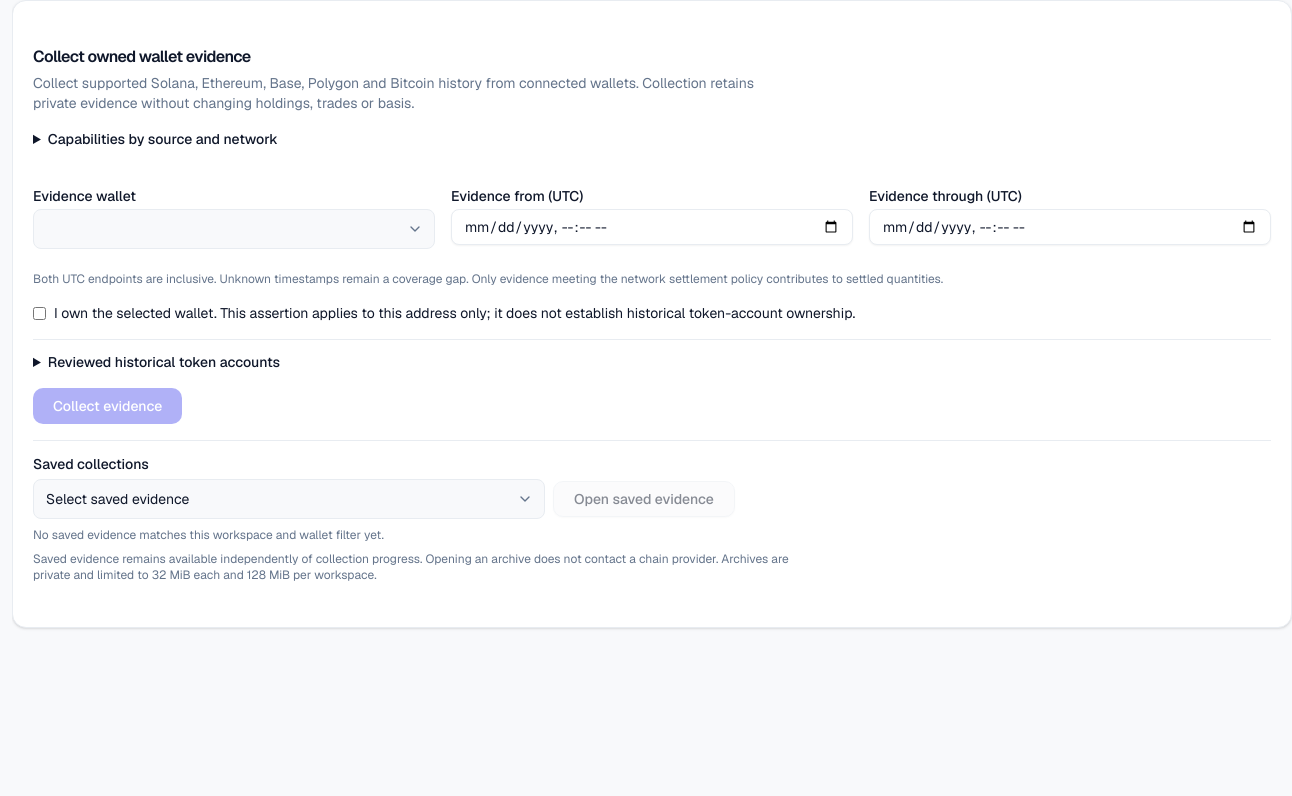
it: explains a busy workspace and retries only when requested, retaining saved evidence
This screenshot has width=1292, height=796.
expect the dropdown labelled "Evidence wallet" is shown: met, box x1=33 y1=209 x2=435 y2=249
Click the checkbox labelled "I own the selected wallet". click: click(40, 314)
box: x1=33 y1=307 x2=46 y2=320
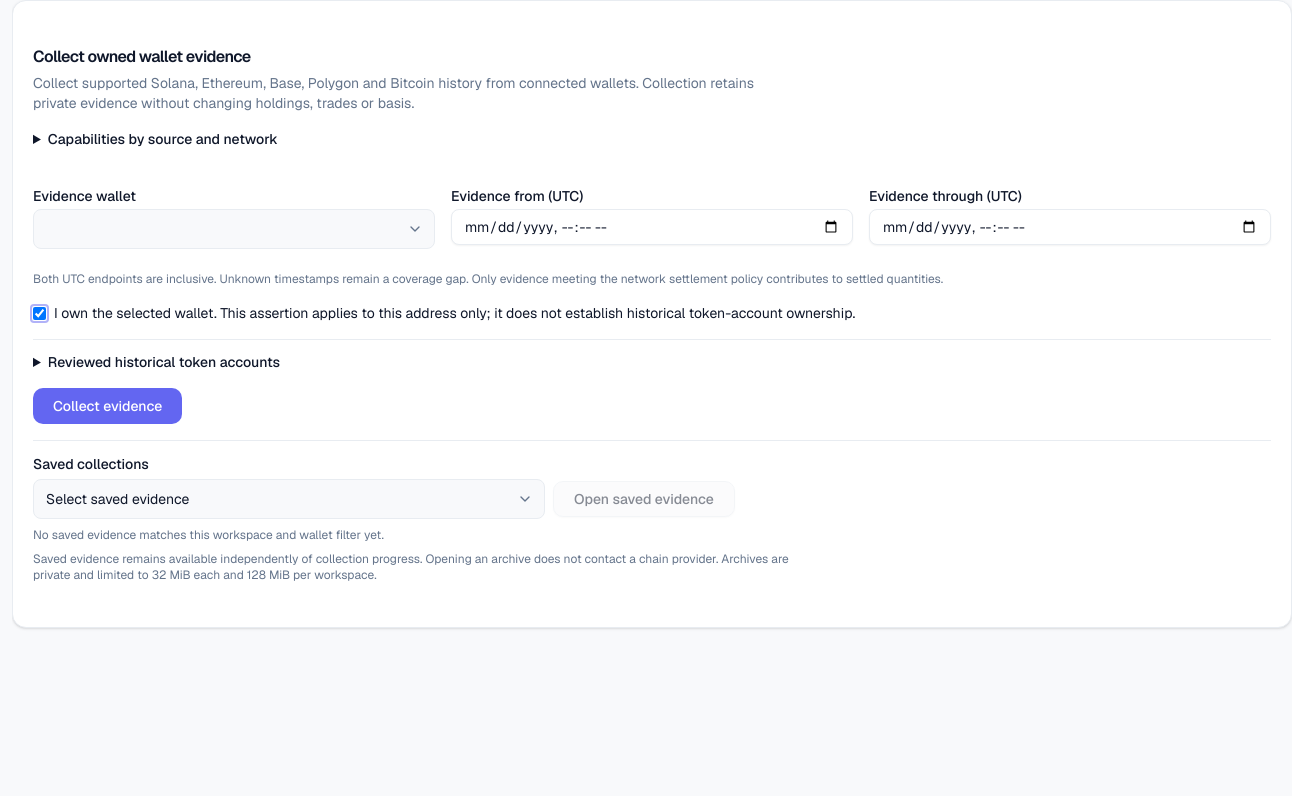
Click the button "Collect evidence". click: click(108, 406)
box: x1=33 y1=388 x2=182 y2=424
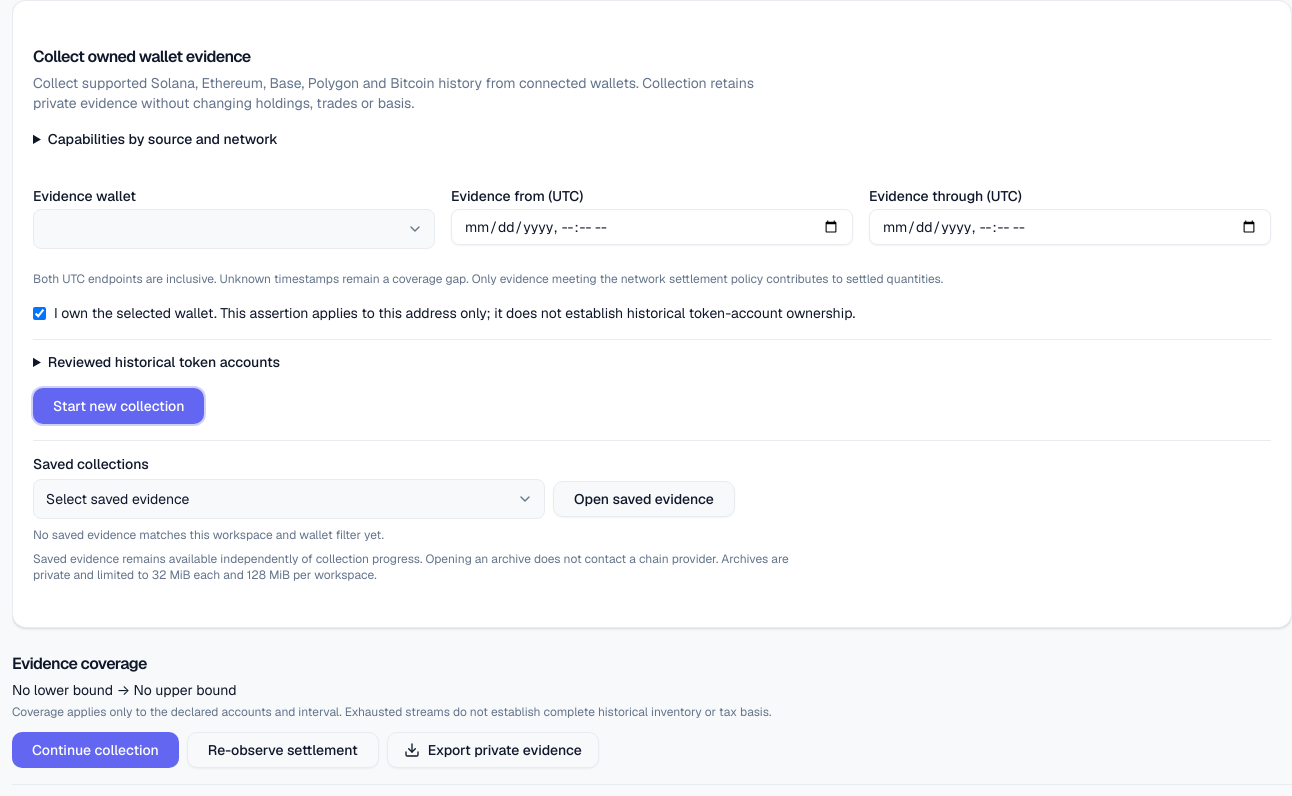
Click the button "Continue collection". click: click(95, 750)
box: x1=12 y1=732 x2=179 y2=768
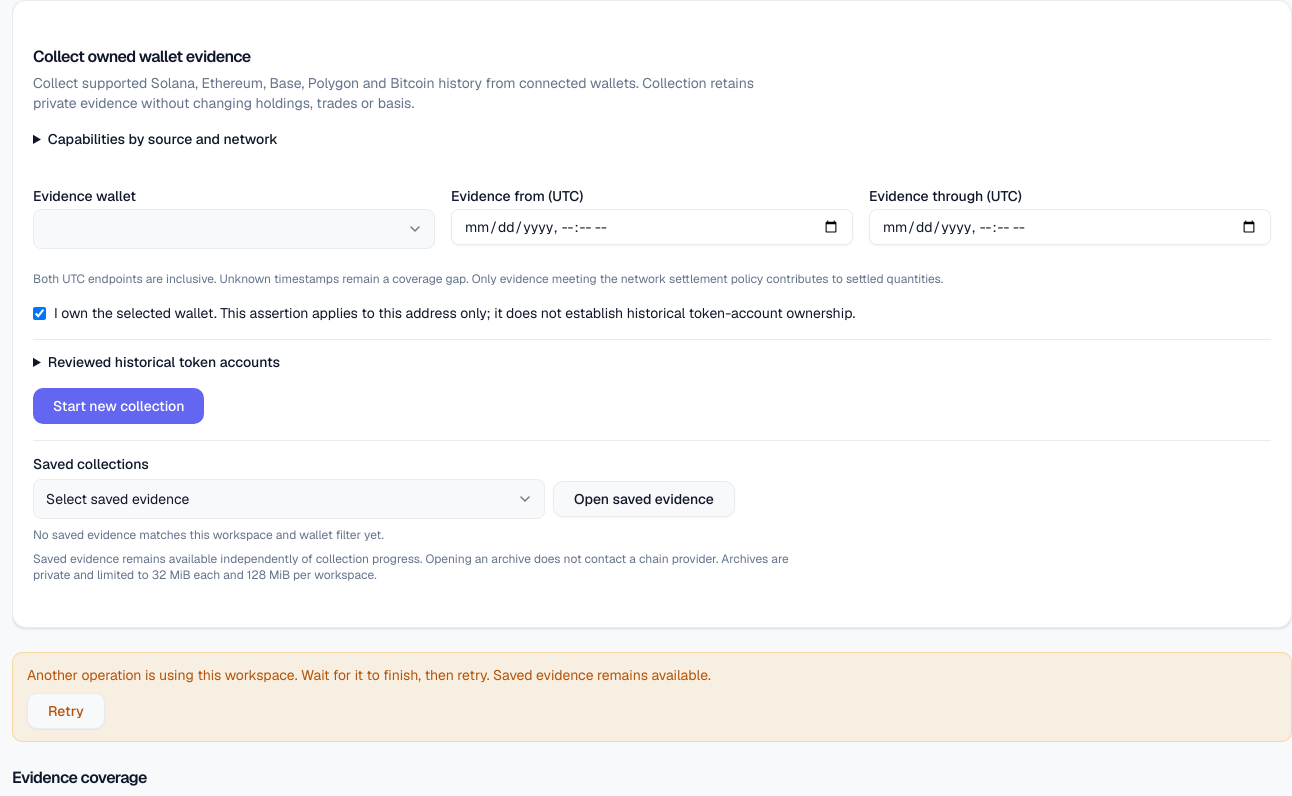
expect the text "Another operation is using this workspace" is shown: met, box x1=27 y1=666 x2=711 y2=684
Click the button "Retry". click: click(66, 711)
box: x1=27 y1=693 x2=105 y2=729
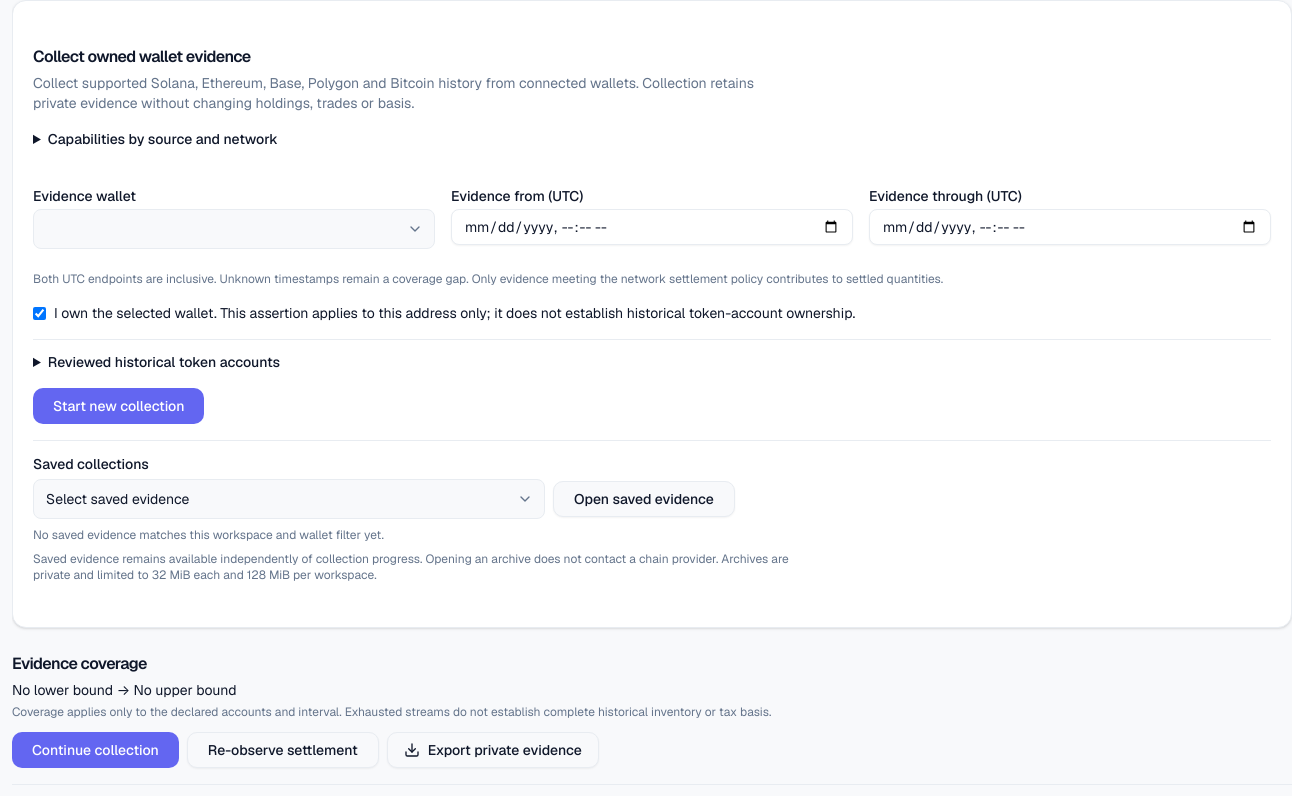
expect the text "Another operation is using this workspace" is gone: met
